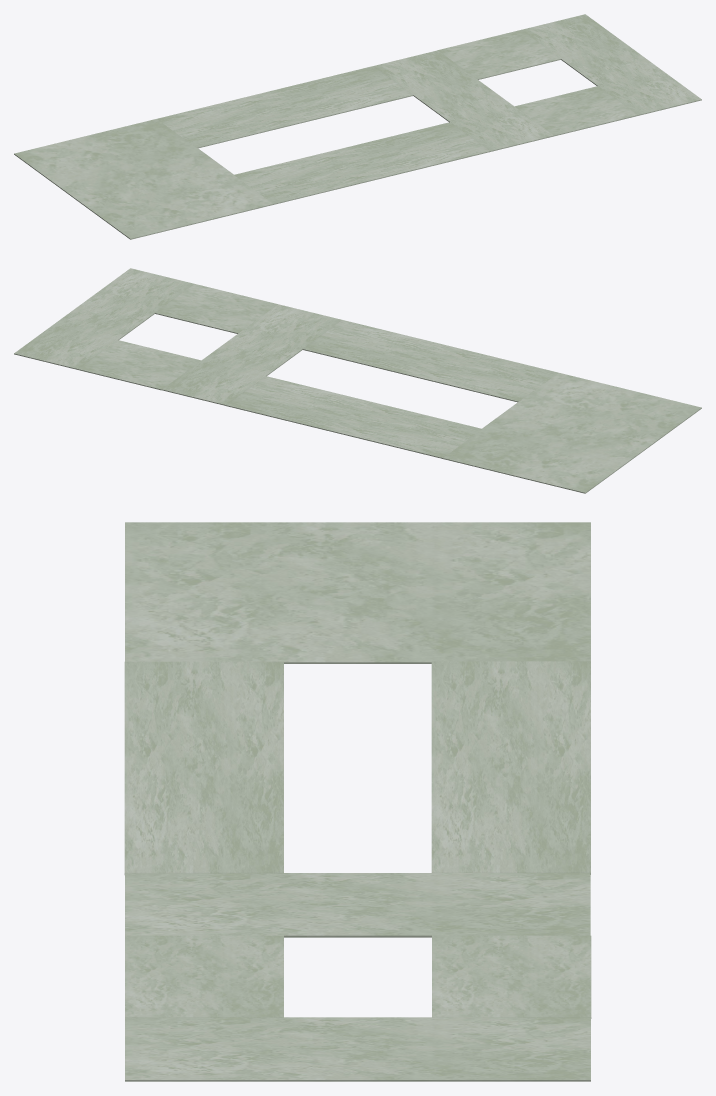
The model's file is piso2.obj.
The picture shows the model from 3 angles, top to bottom: view 1: azimuth 30°, elevation 25°; view 2: azimuth 150°, elevation 25°; view 3: azimuth 270°, elevation 25°; orthographic projection. The views are drawn at different scales.
Visible parts, largest first — view 1: Box018, Box006, Box005, Box020, Box019, Box021, Box022; view 2: Box018, Box006, Box005, Box020, Box019, Box021, Box022; view 3: Box018, Box005, Box006, Box020, Box019, Box021, Box022.
Part boxes in pixels (x1,y1,x2,y2): Box018: (14,119,273,239); Box006: (157,66,413,148); Box005: (234,122,490,204); Box020: (521,14,701,115); Box019: (374,50,553,151); Box021: (438,30,560,79); Box022: (515,86,637,136); Box018: (442,373,701,493); Box006: (226,376,481,458); Box005: (302,320,558,402); Box020: (14,268,194,369); Box019: (162,304,341,405); Box021: (78,340,200,390); Box022: (155,284,277,333); Box018: (125,522,590,663); Box005: (124,661,283,874); Box006: (431,661,590,874); Box020: (125,1017,590,1081); Box019: (125,873,590,937); Box021: (432,935,591,1018); Box022: (125,935,283,1017).
Bounding box in the file's own units: 1326 × 2 × 469.
Materials: 1 (1 with a texture image).
